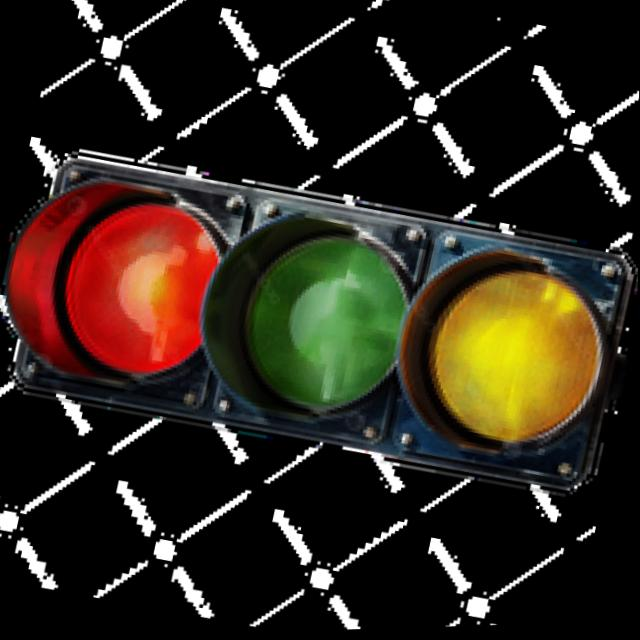green_light: (191, 120, 490, 480)
red_light: (0, 142, 282, 448)
yellow_light: (383, 190, 639, 540)
